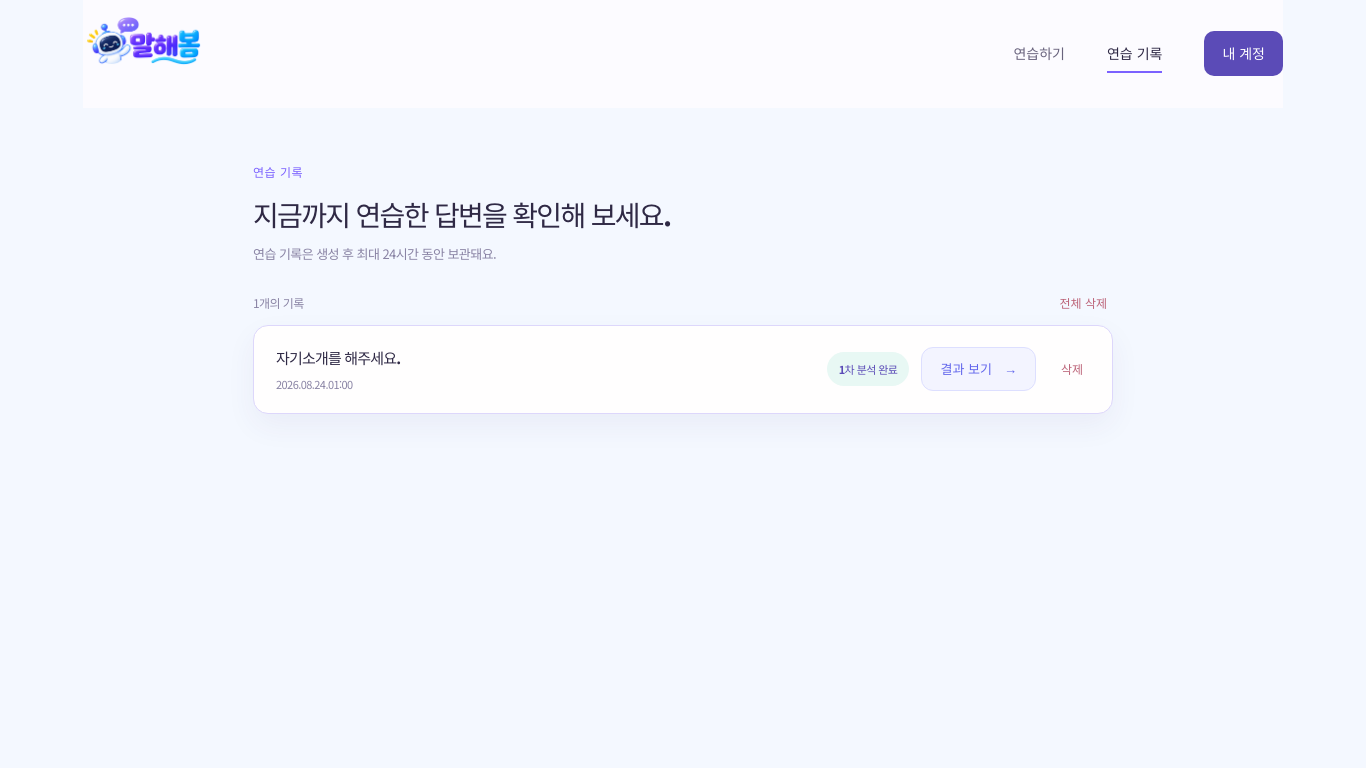
Test: HistoryPage › 개별 삭제가 실패하면 다시 시도로 같은 삭제 요청을 재전송한다
Click the button "삭제" at coordinates (1072, 369), box [1054,352,1090,386]
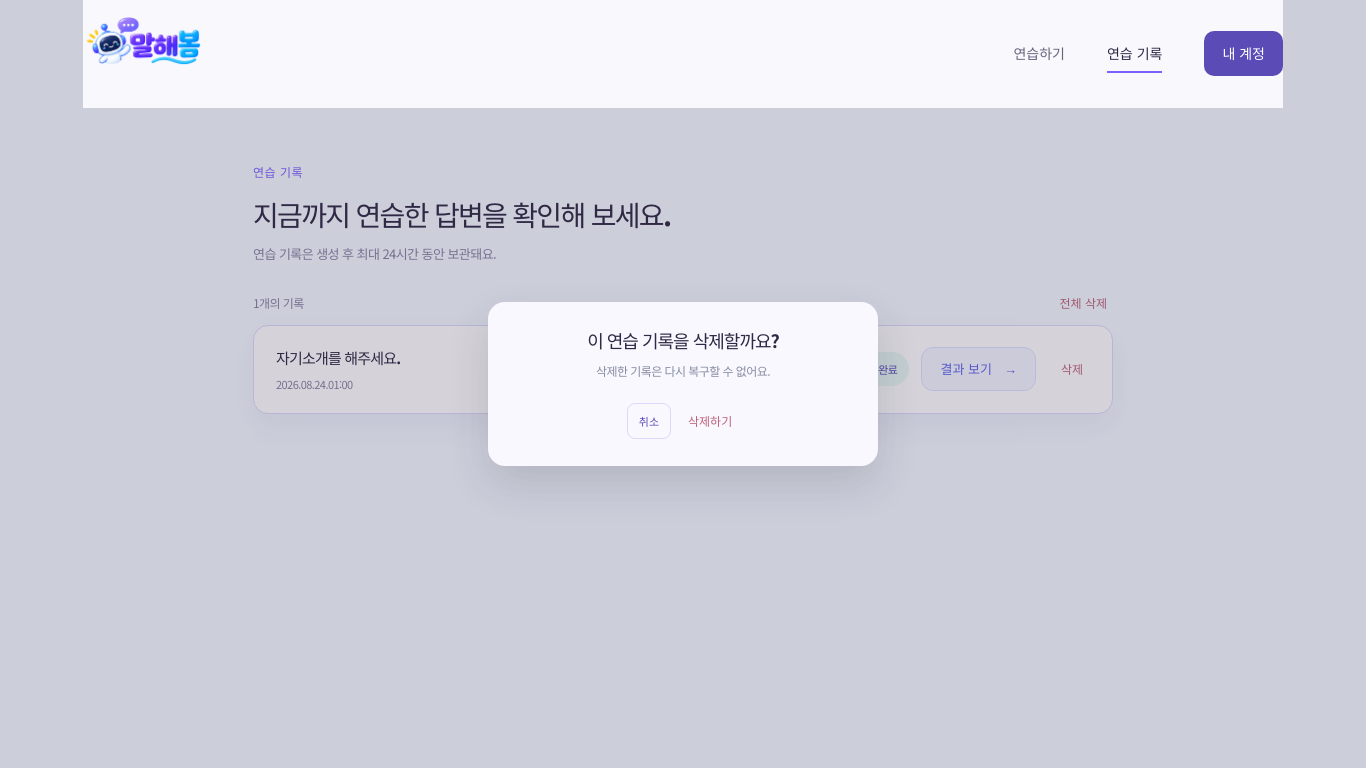
Click the button "삭제하기" at coordinates (710, 421), box [681,403,739,439]
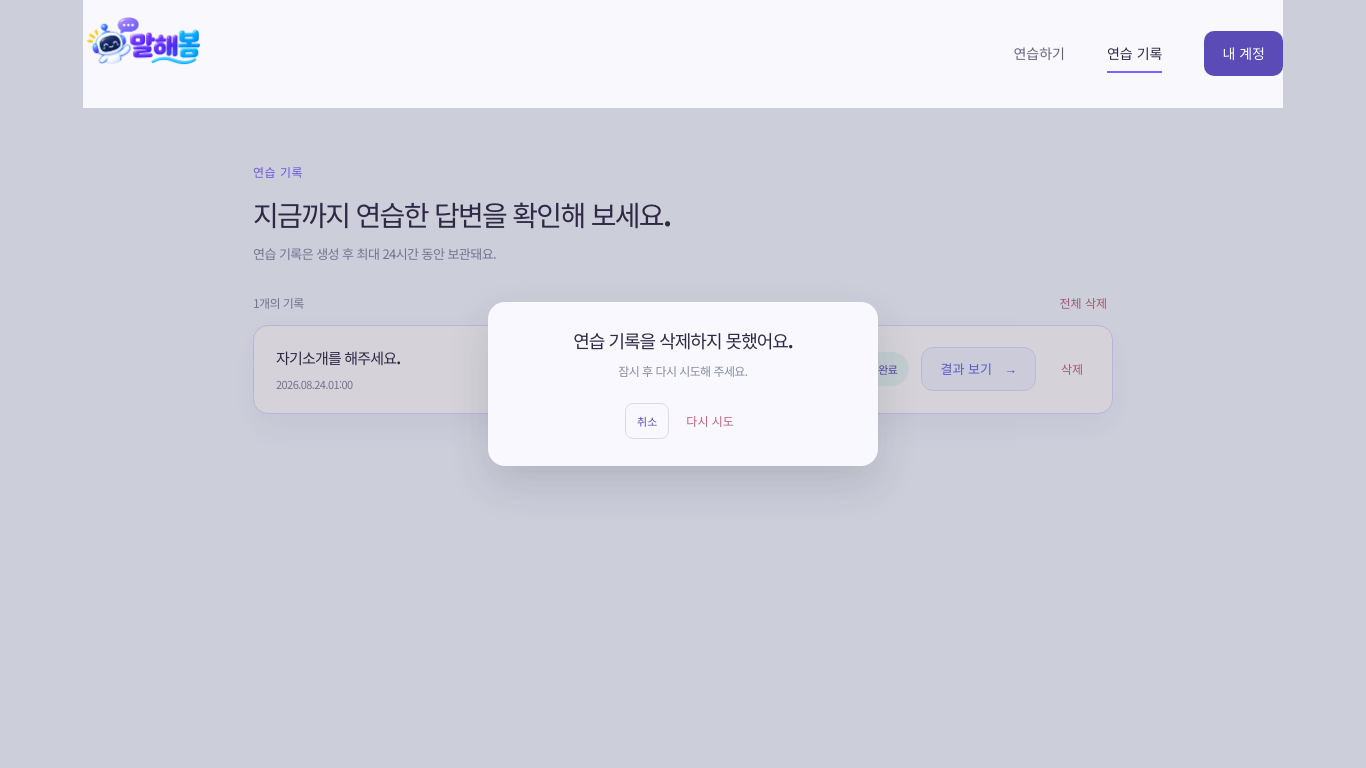
Click the button "다시 시도" at coordinates (710, 421), box [679,403,741,439]
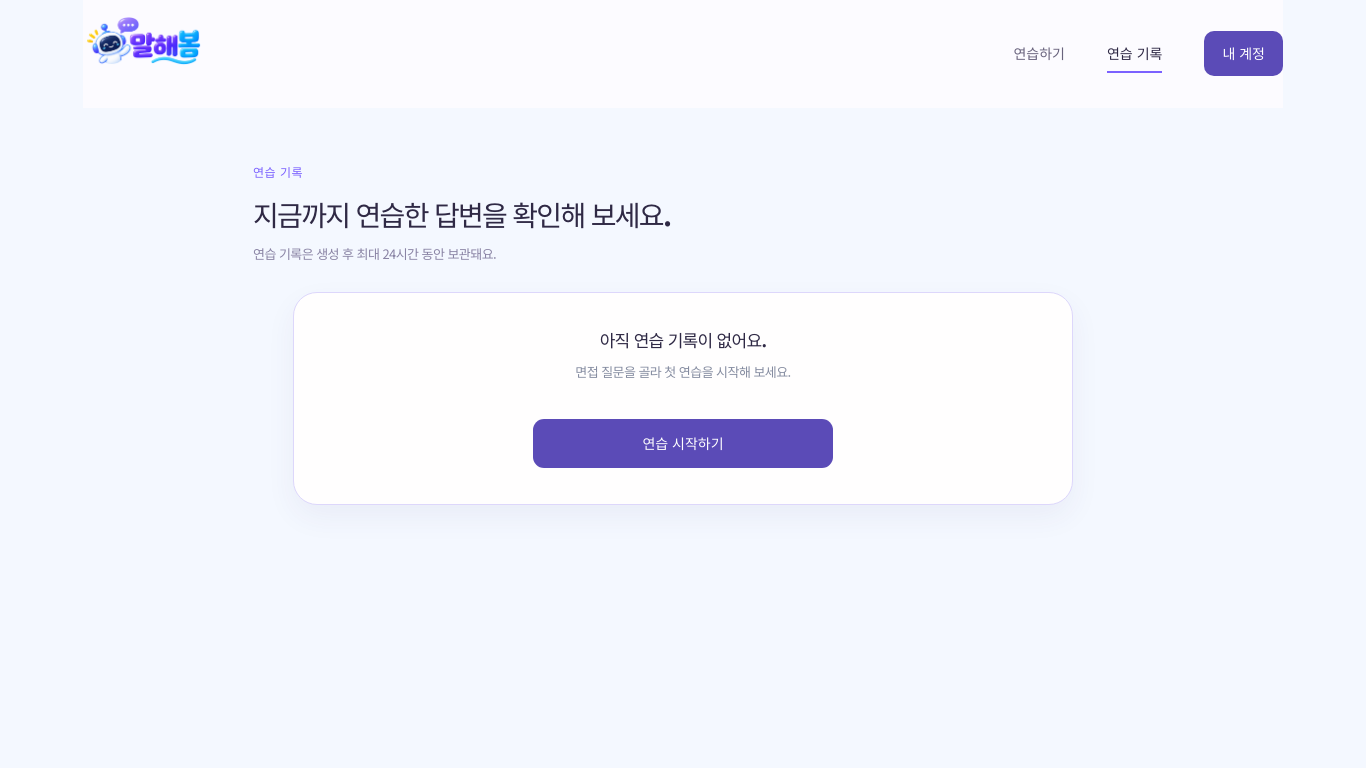
Expected: the text "아직 연습 기록이 없어요." is shown, [600,327,766,352]
